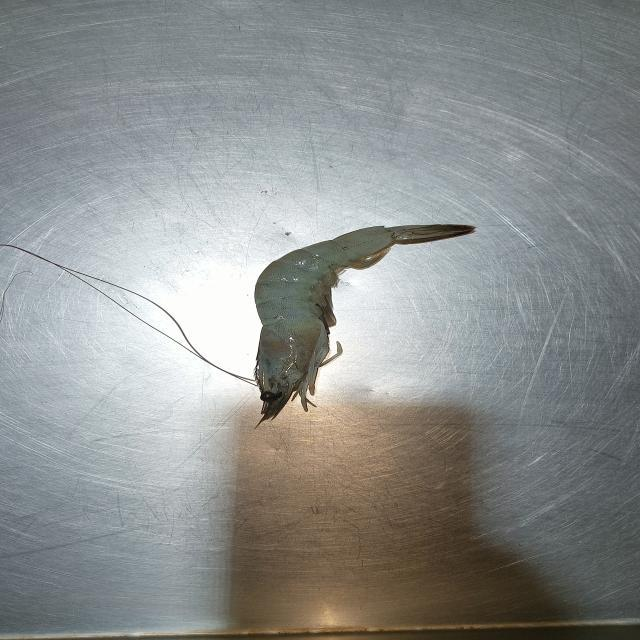shrimp: (255, 224, 474, 422)
